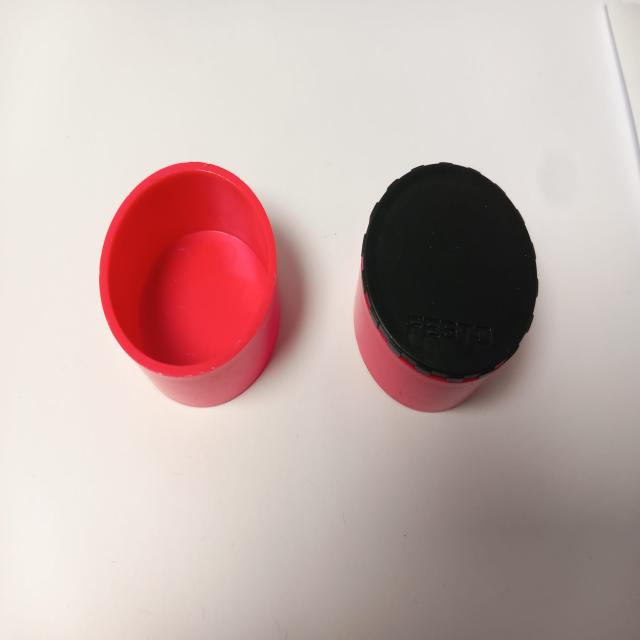NoLid: (88, 147, 305, 428)
Workpiece: (344, 150, 555, 422)
